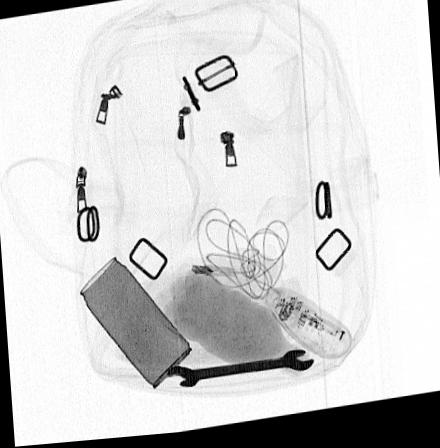Wrench: (165, 355, 314, 392)
